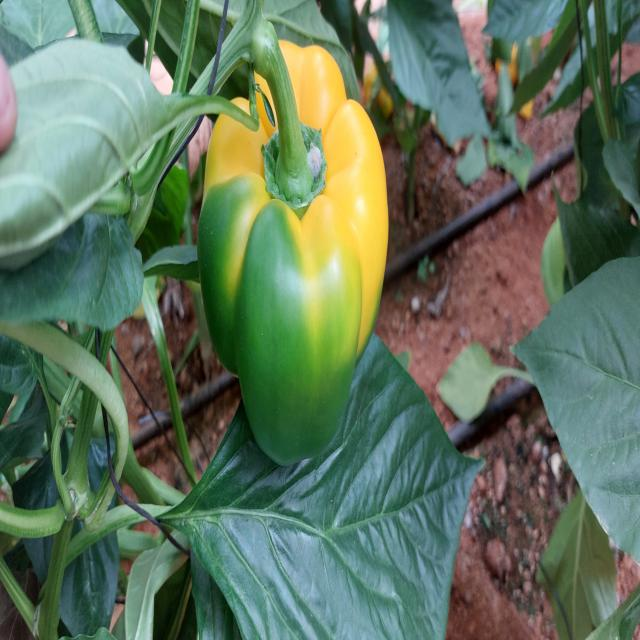GreenishYellow--Can-be-Harvested: (180, 60, 396, 494)
